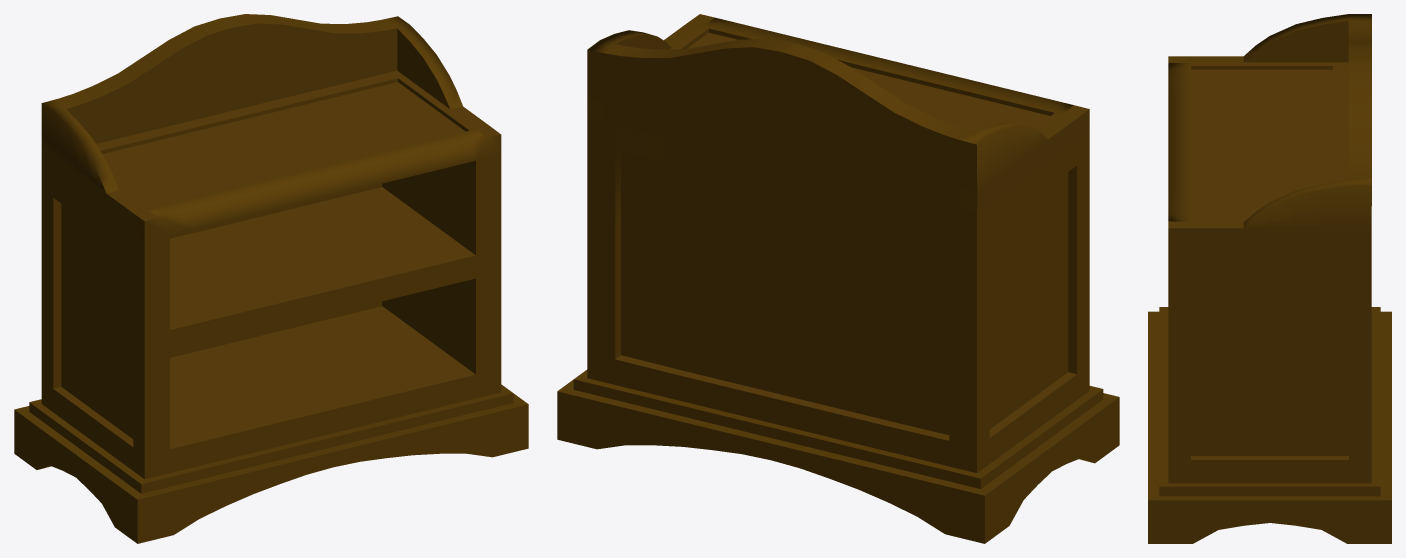
File: Chest_With_Shelves_low_2.fbx
3 views of the same model, side by side, from view 1: azimuth 30°, elevation 25°; view 2: azimuth 150°, elevation 25°; view 3: azimuth 270°, elevation 25° (orthographic). The views are drawn at different scales.
Visible parts, largest first — view 1: Draw_shelf_low; view 2: Draw_shelf_low; view 3: Draw_shelf_low.
Boxes of the visible parts, <box> form: Draw_shelf_low: <box>14,14,528,543</box>; Draw_shelf_low: <box>557,14,1119,543</box>; Draw_shelf_low: <box>1148,14,1391,543</box>.
Bounding box in the file's own units: 127 × 122 × 69.33.
